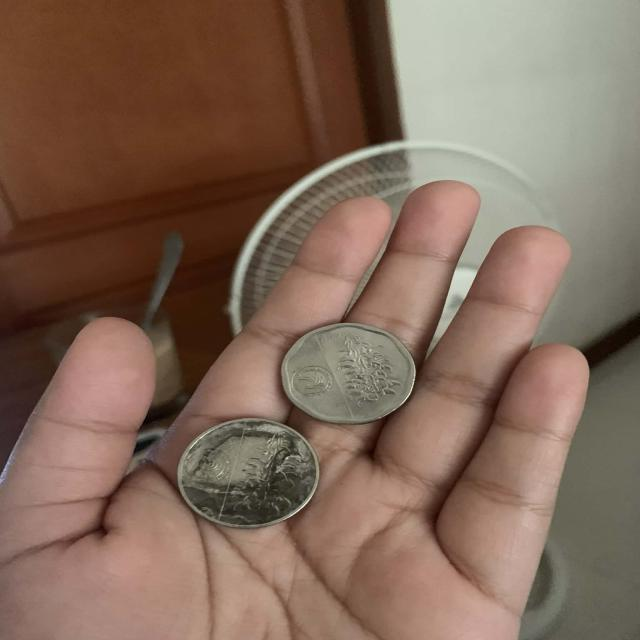5 peso: (168, 407, 324, 533), (274, 318, 424, 426)
